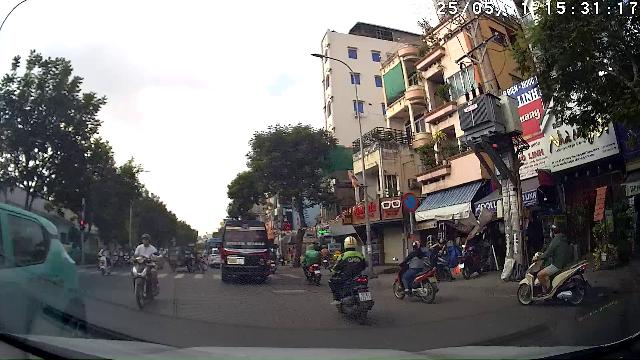131a-cam-do-xe: (402, 192, 418, 212)
